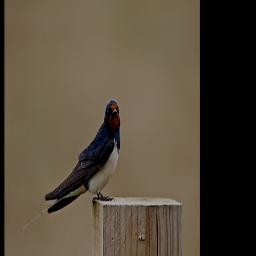Swallow: (20, 96, 122, 232)
